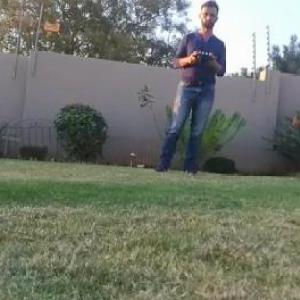follow: (146, 0, 228, 180)
